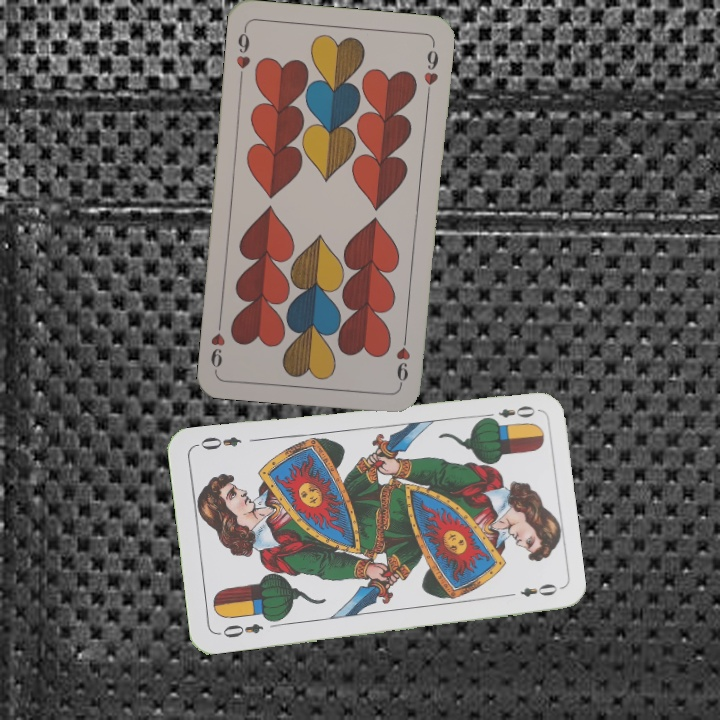EO: (480, 402, 538, 425), (214, 619, 266, 641)
H9: (232, 24, 253, 83), (392, 329, 413, 388)
